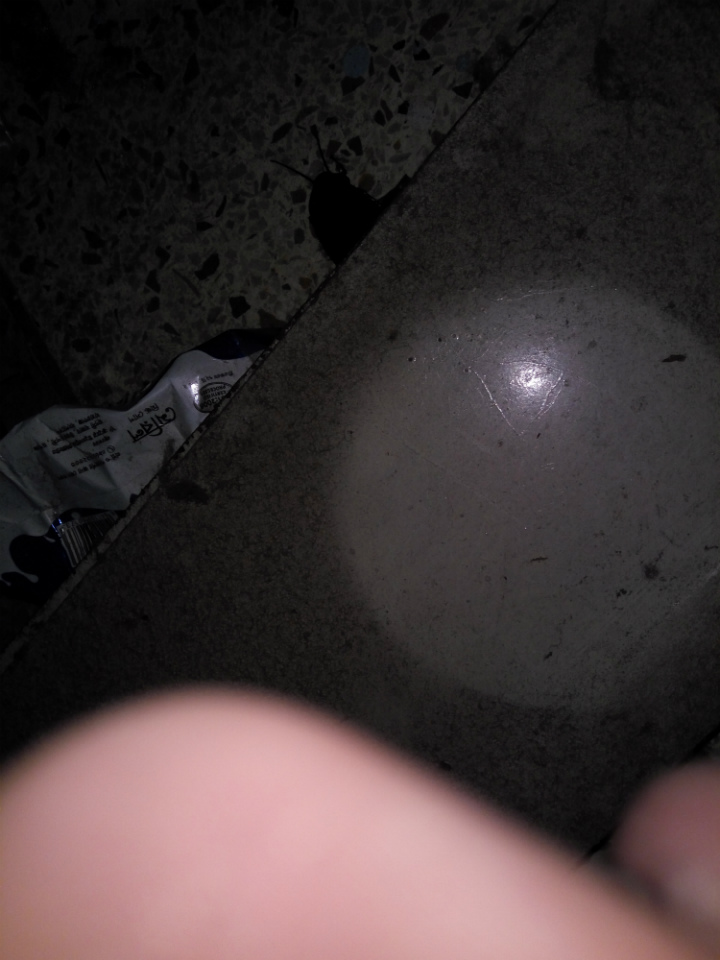cockroach: (226, 112, 422, 268)
